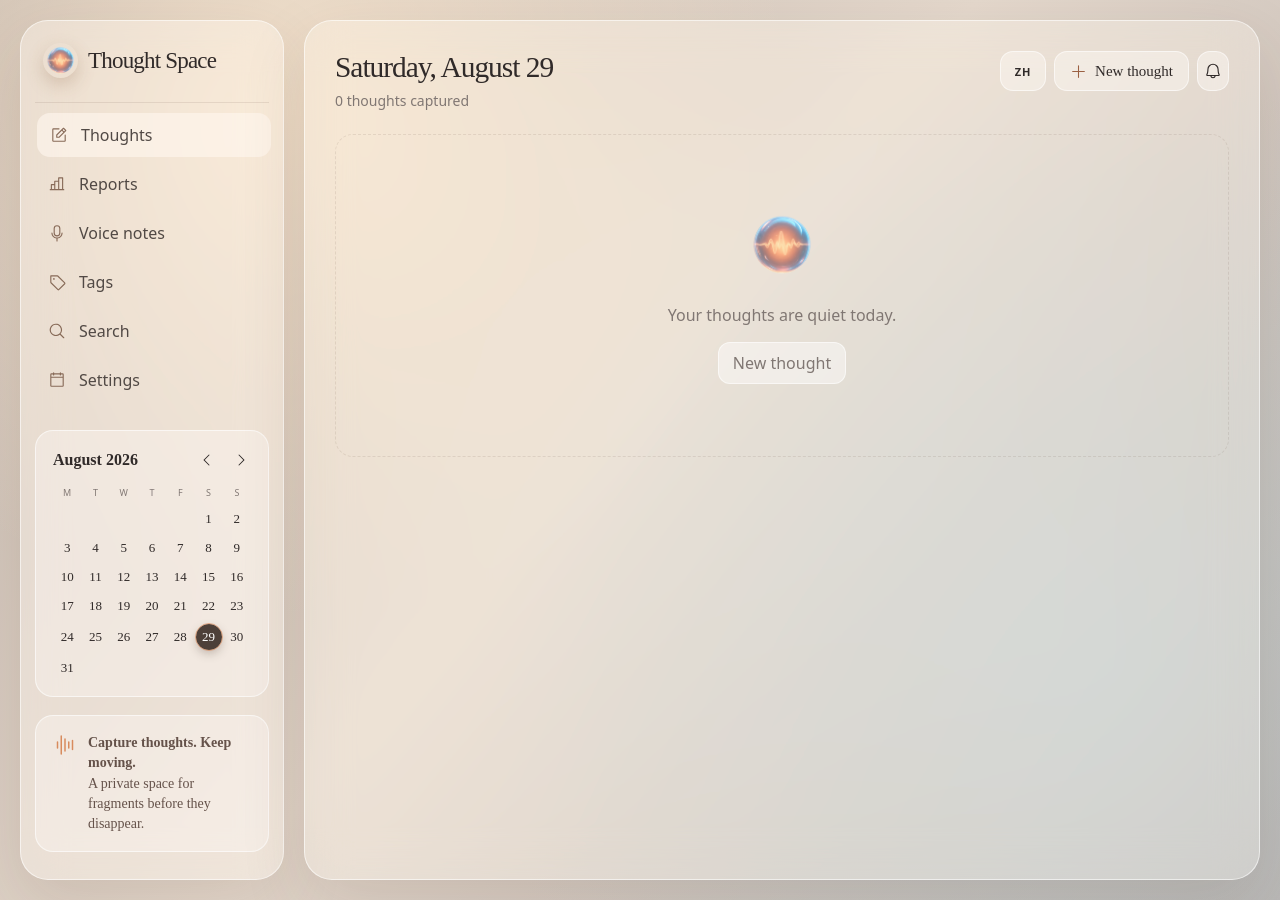
Scenario: search and tags › shows all tagged thoughts when the all-tags filter is active
Click the button "Tags": (152,282) left=35, top=260, right=269, bottom=304
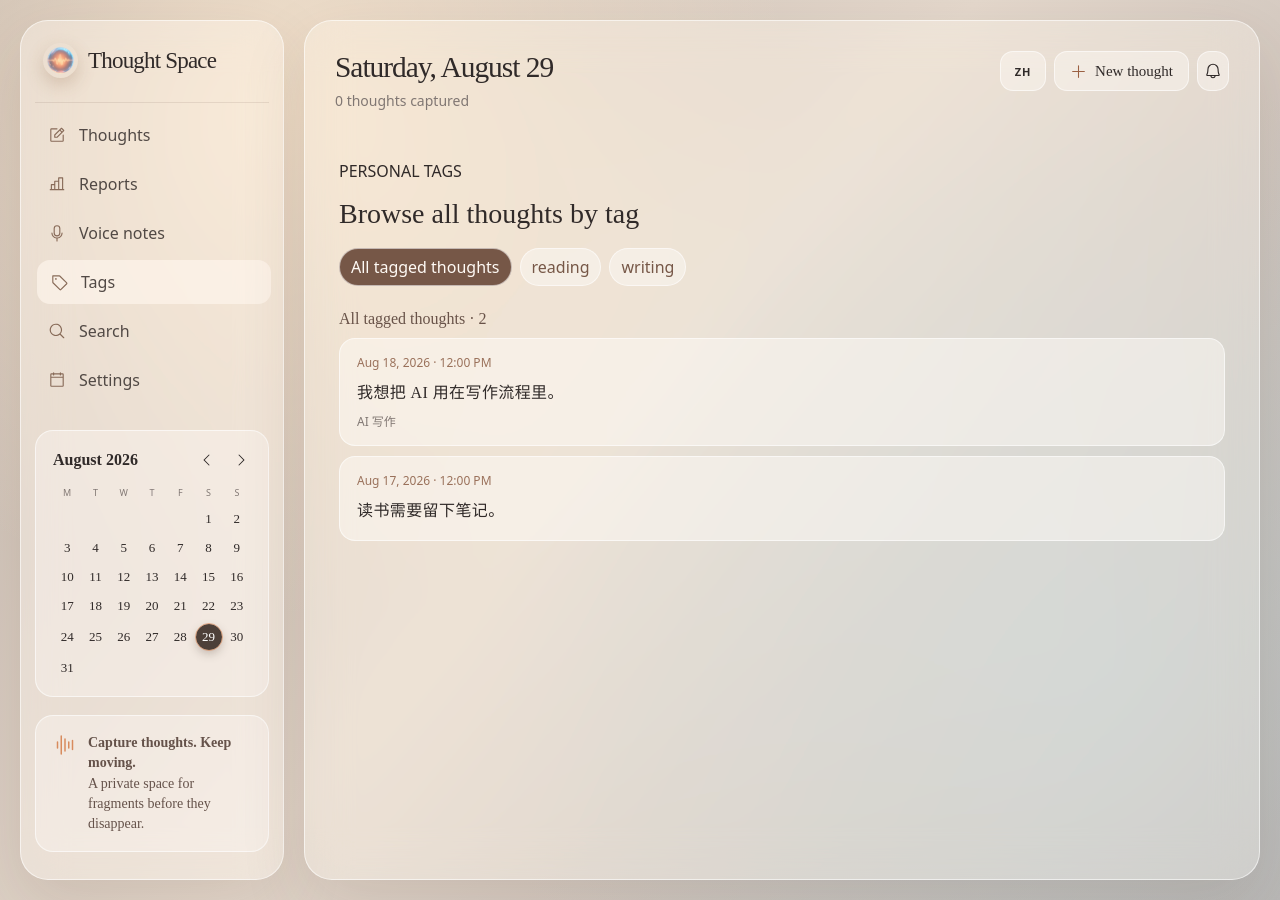
Now the text "我想把 AI 用在写作流程里。" is shown, box left=357, top=384, right=564, bottom=401
Now the text "读书需要留下笔记。" is shown, box left=357, top=502, right=505, bottom=519
